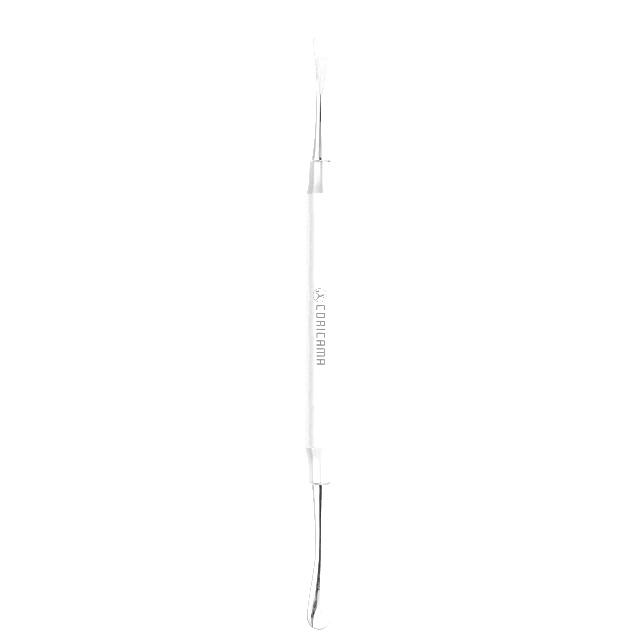elevador: (306, 42, 331, 632)
